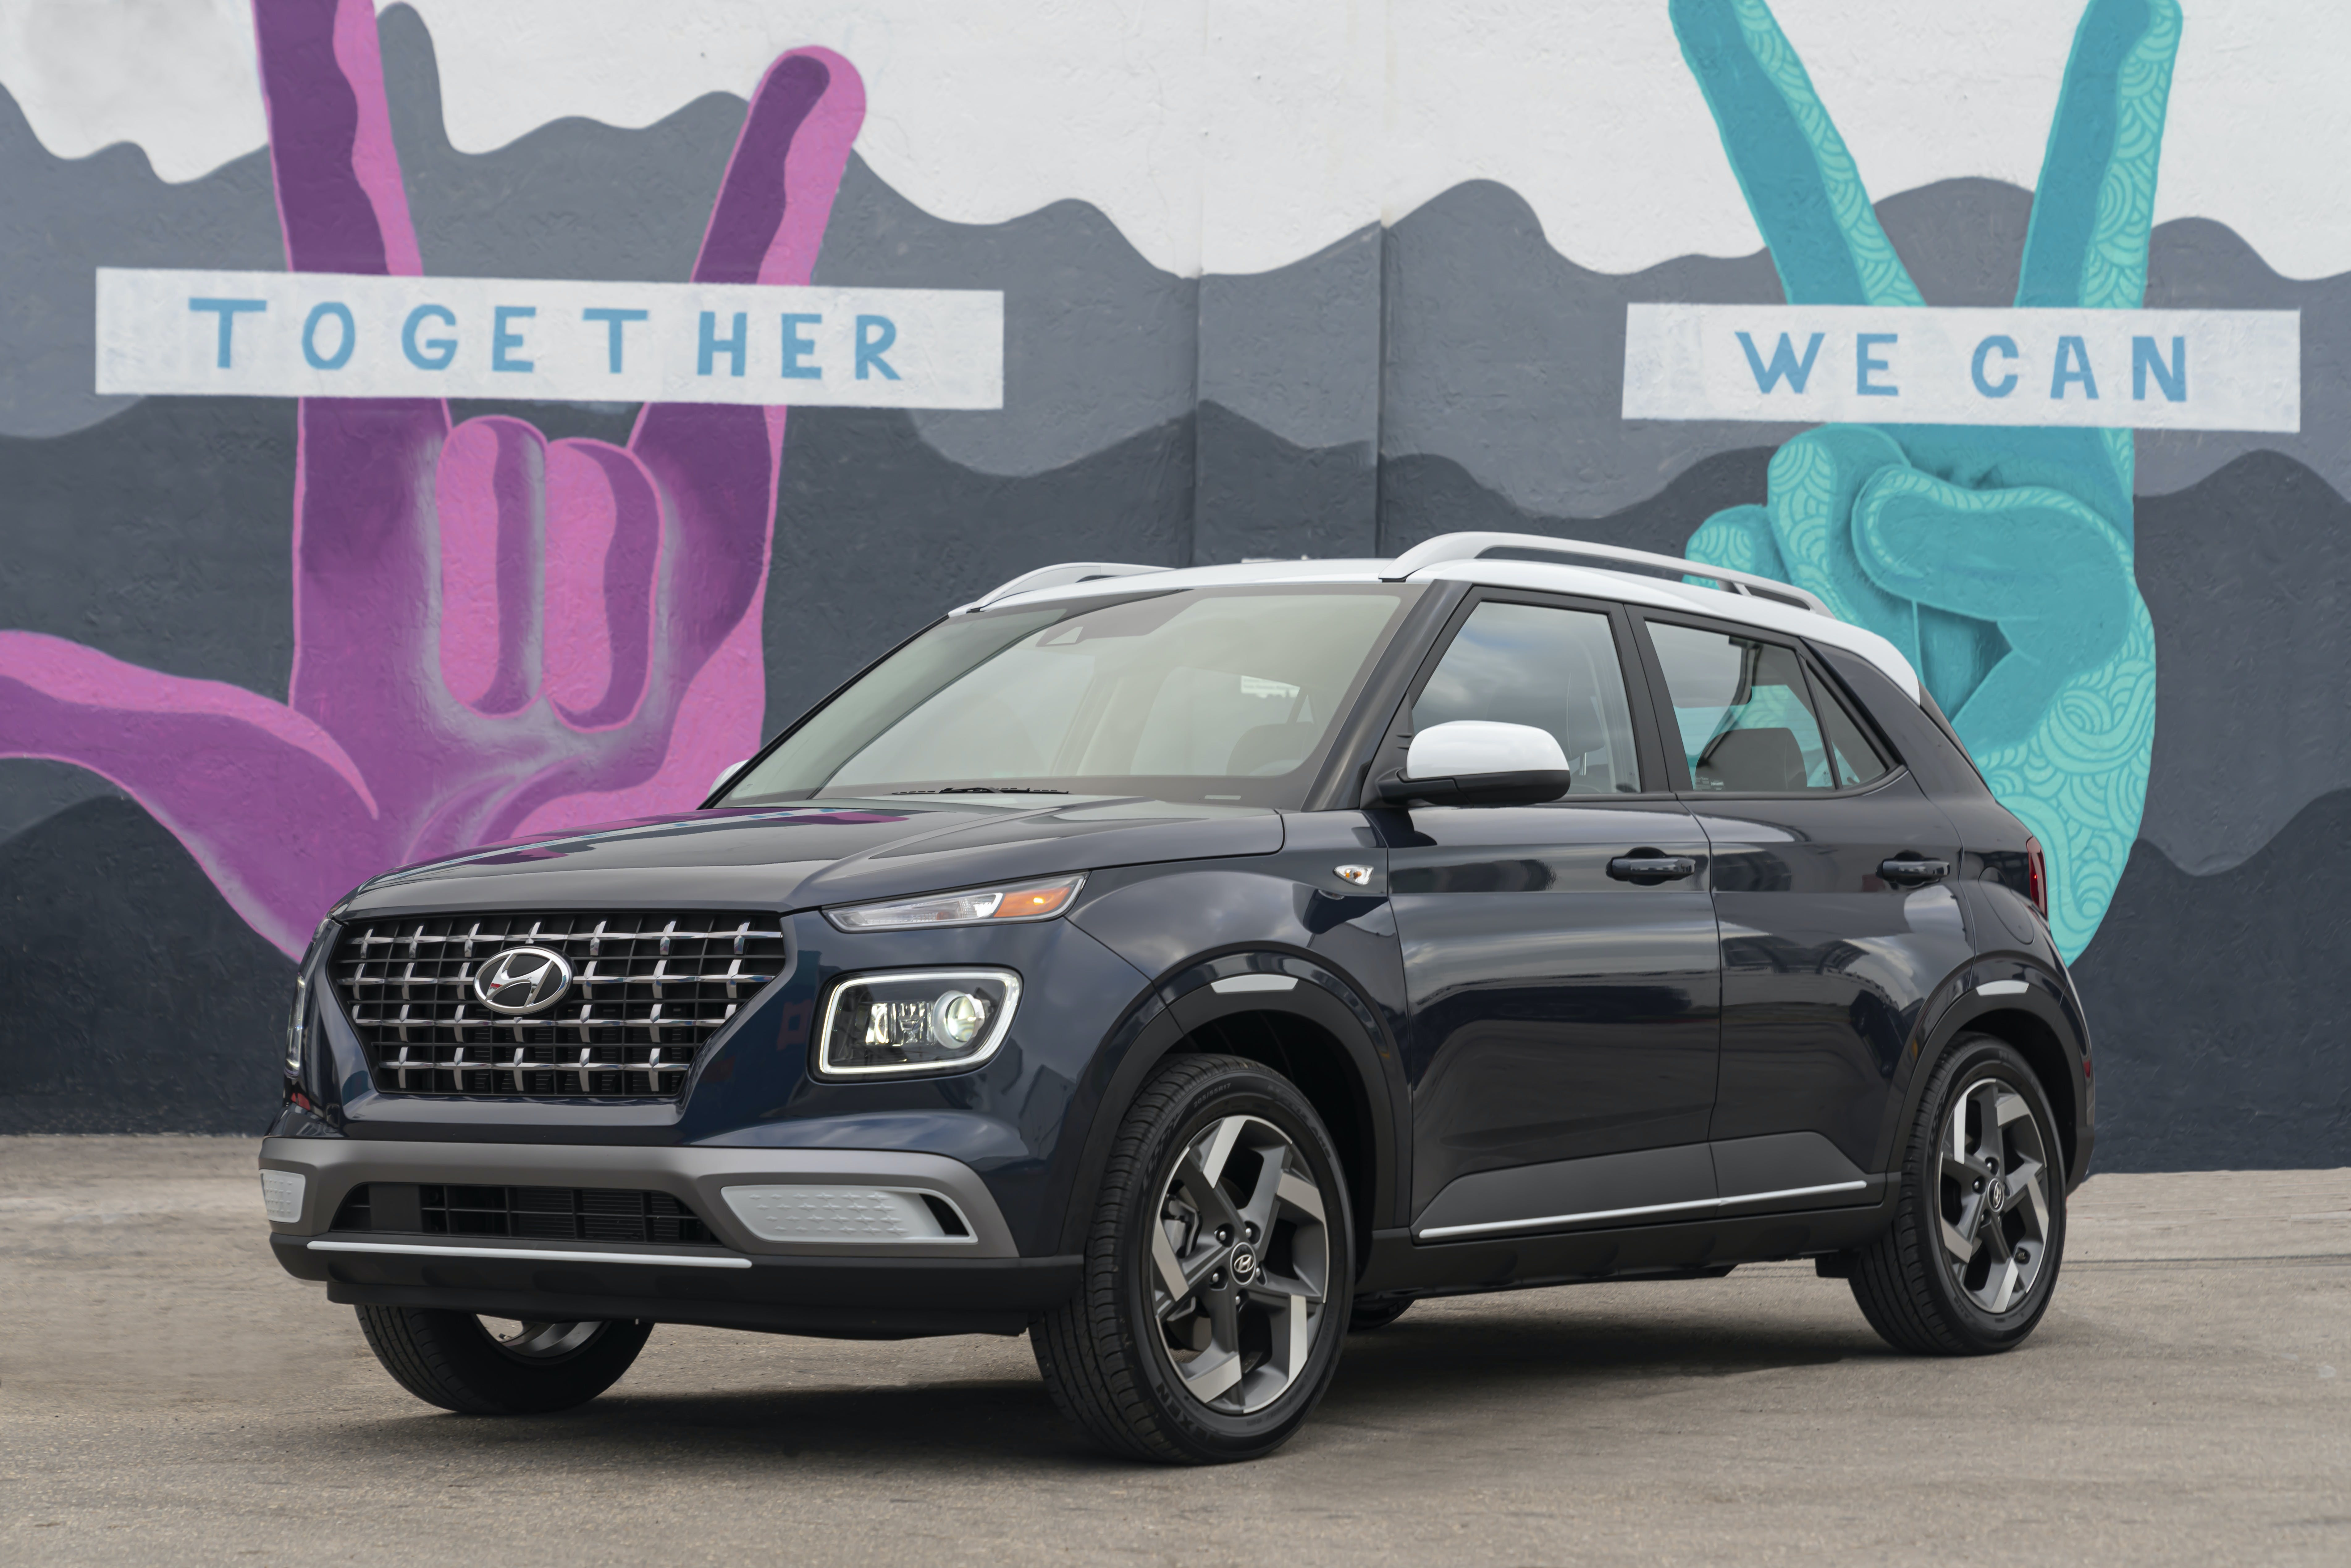car: (247, 532, 2099, 1468)
